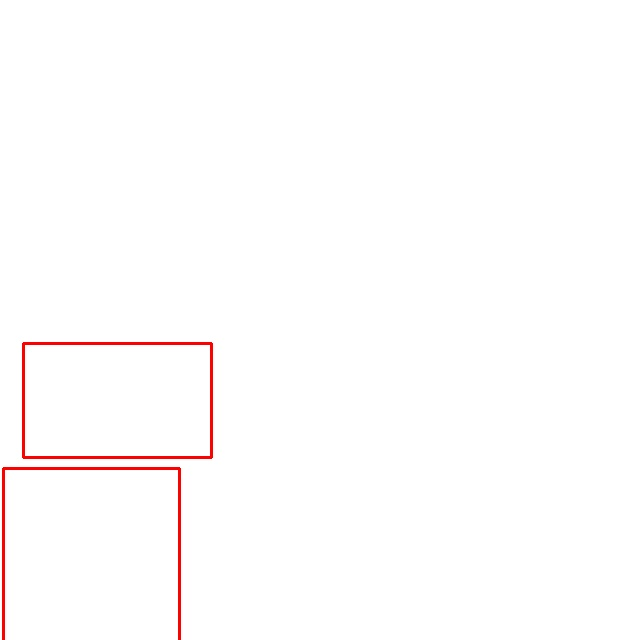weapon: (4, 468, 180, 640), (24, 344, 211, 457)
